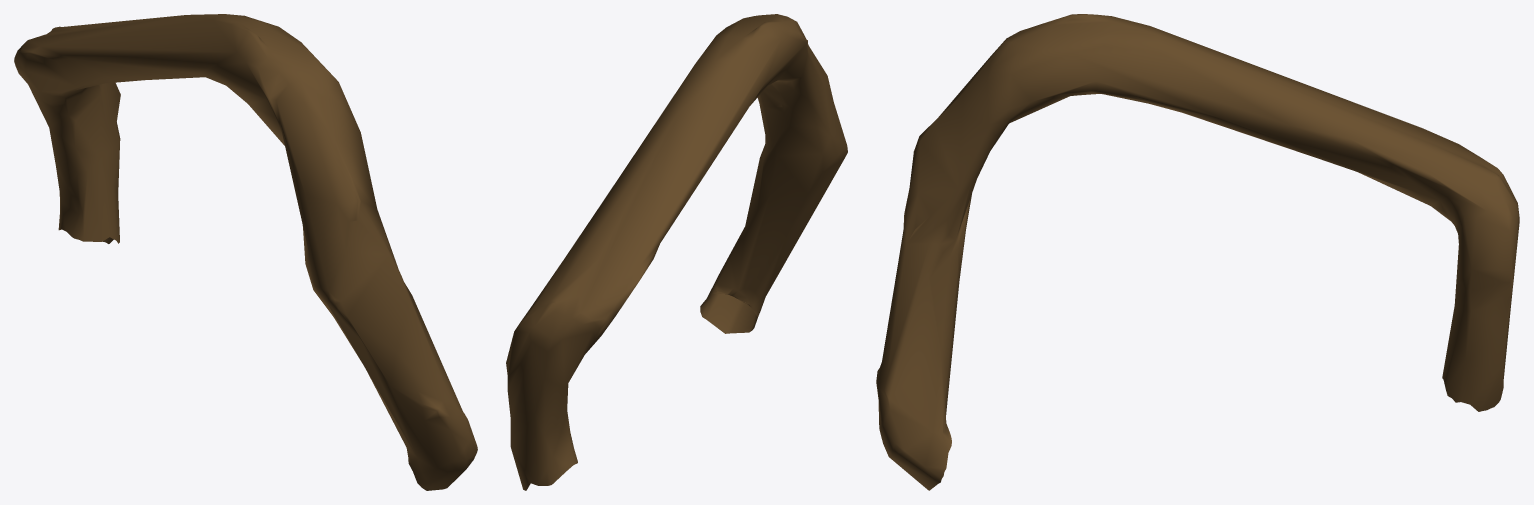
Rendered from arch.fbx.
3 views of the same model, side by side, from view 1: azimuth 30°, elevation 25°; view 2: azimuth 150°, elevation 25°; view 3: azimuth 270°, elevation 25° (orthographic). The views are drawn at different scales.
Parts seen in each view (by area): view 1: BezierCurve; view 2: BezierCurve; view 3: BezierCurve.
Boxes of the visible parts, left/top/right/bottom form: BezierCurve: left=14, top=14, right=477, bottom=490; BezierCurve: left=506, top=14, right=847, bottom=490; BezierCurve: left=876, top=14, right=1519, bottom=490.
Size of the model in its own units: 595 by 1335 by 1856.
